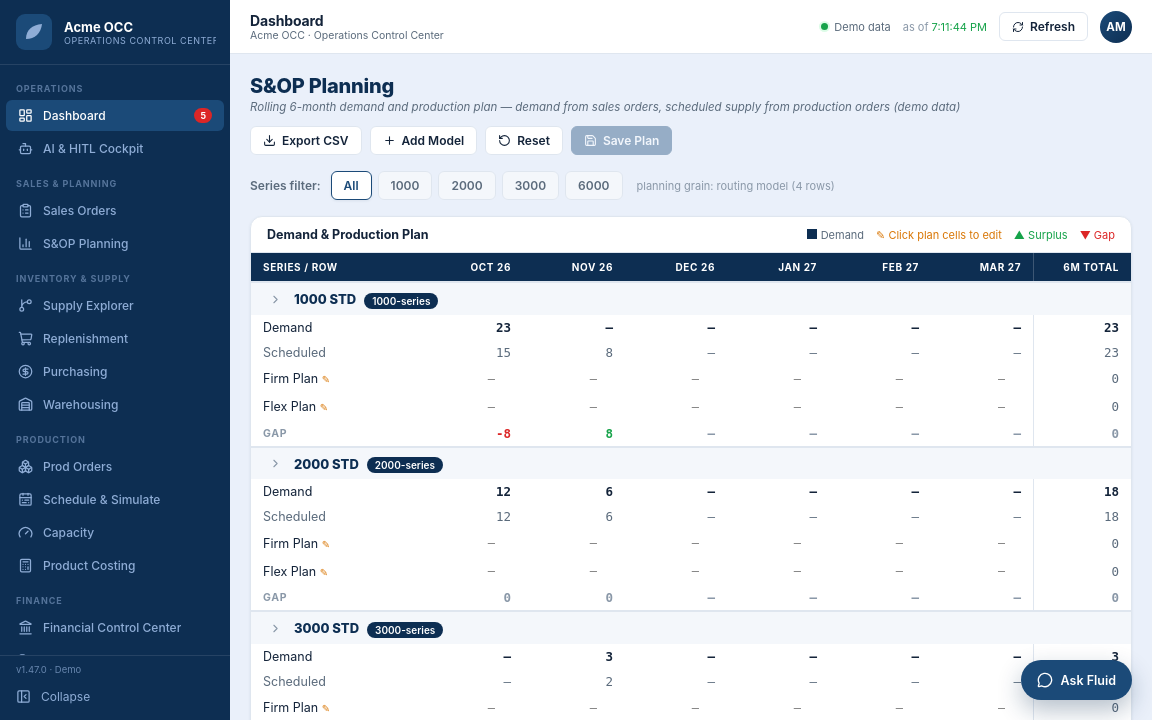
S&OP page › edits a plan cell, saves, and the intelligence panel updates
Expected: the heading "S&OP Planning" is shown, [250,74,394,98]
Expected: the button "Save Plan" is disabled, [571,126,672,155]
Type "8" into the number field named "Firm Plan 1000 STD Oct 26". click: (481, 379)
box: [445,367,517,391]
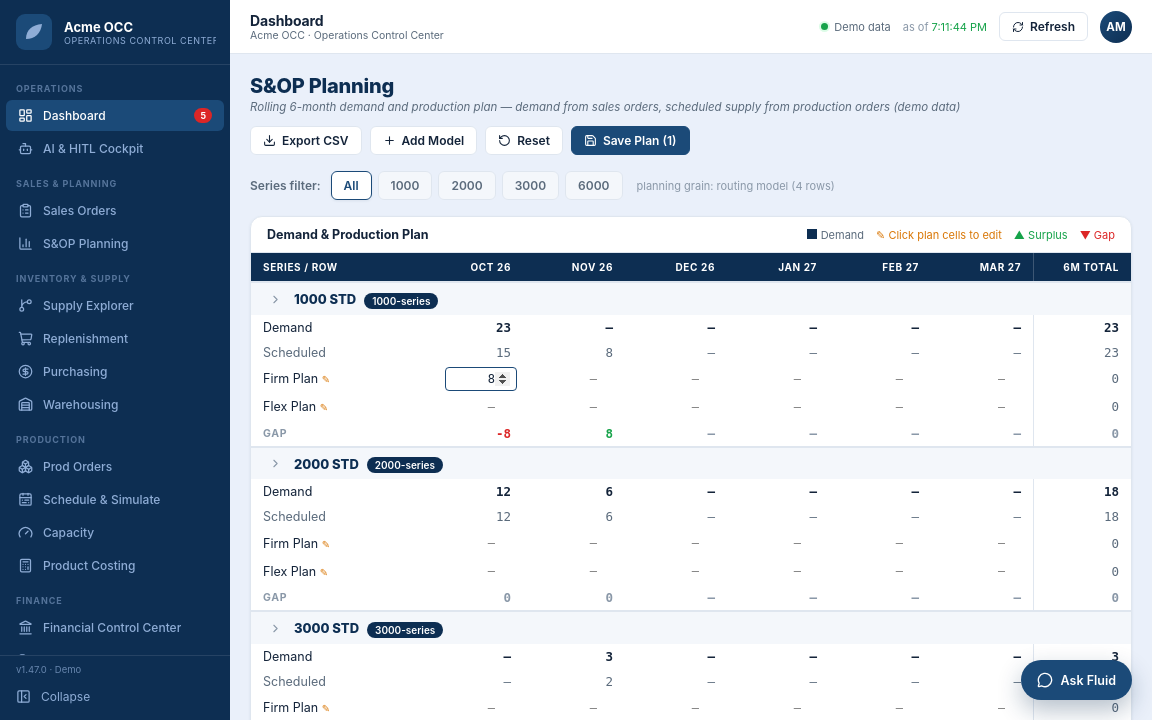
Expected: the button "Save Plan (1)" is enabled
Click the button "Save Plan (1)". click: click(630, 140)
box: [571,126,690,155]
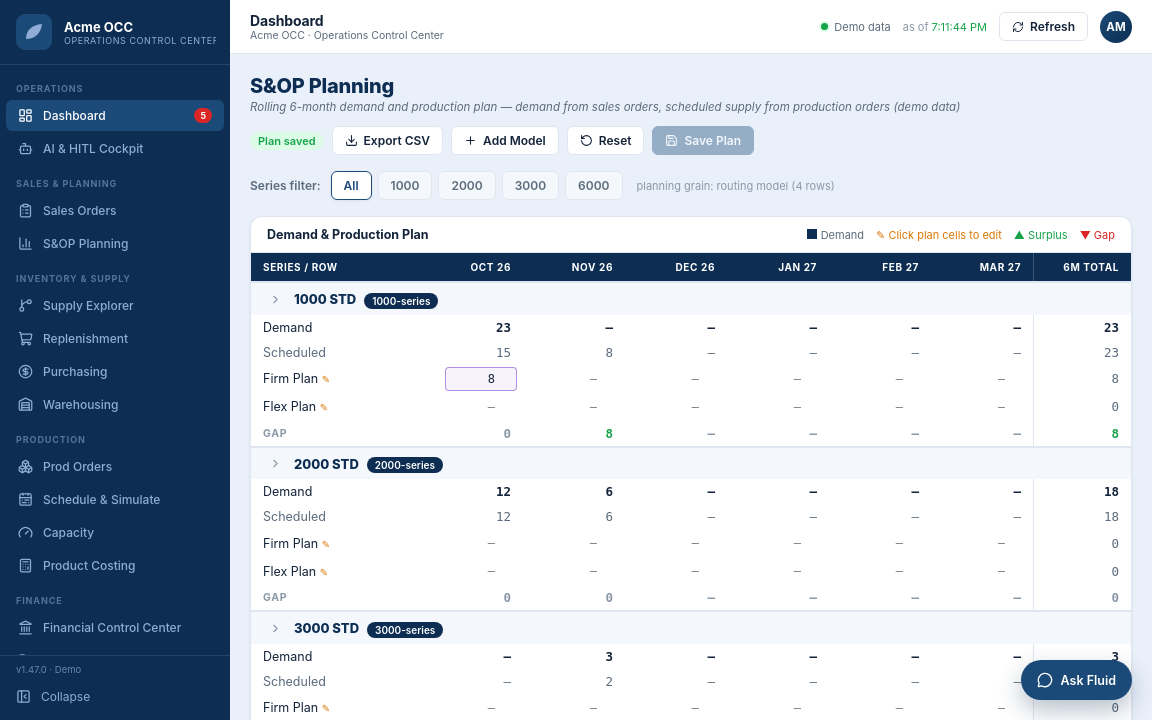
Expected: the number field named "Firm Plan 1000 STD Oct 26" holds "8", [445,367,517,391]
Expected: the text "Plan saved" is shown, [250,132,324,150]
Expected: the button "Save Plan" is disabled, [652,126,754,155]
